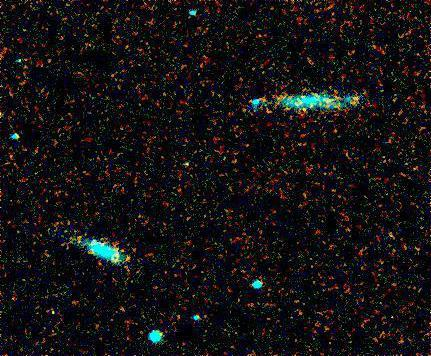star: (338, 86, 368, 116)
